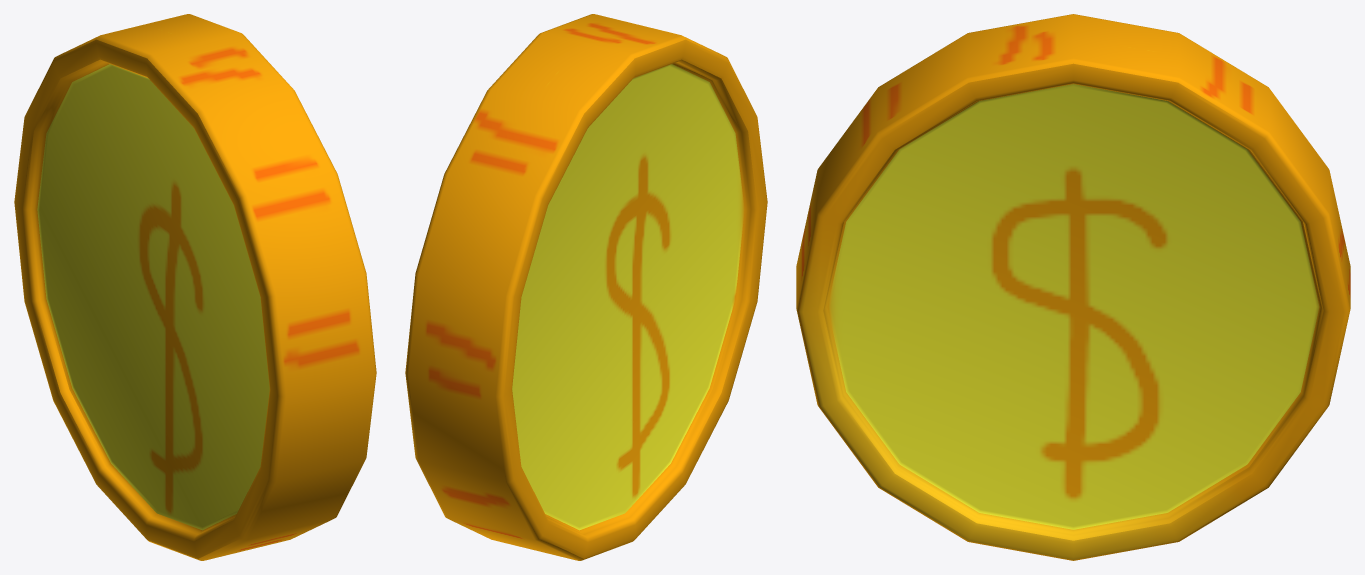
File: coin_remake.fbx
3 views of the same model, side by side, from view 1: azimuth 30°, elevation 25°; view 2: azimuth 150°, elevation 25°; view 3: azimuth 270°, elevation 25° (orthographic). The views are drawn at different scales.
Parts seen in each view (by area): view 1: Cylinder; view 2: Cylinder; view 3: Cylinder.
Boxes of the visible parts, x1,y1,x2,y2 form: Cylinder: (14,14,376,560); Cylinder: (405,14,767,560); Cylinder: (796,14,1350,560).
Bounding box in the file's own units: 80 × 380 × 380.
